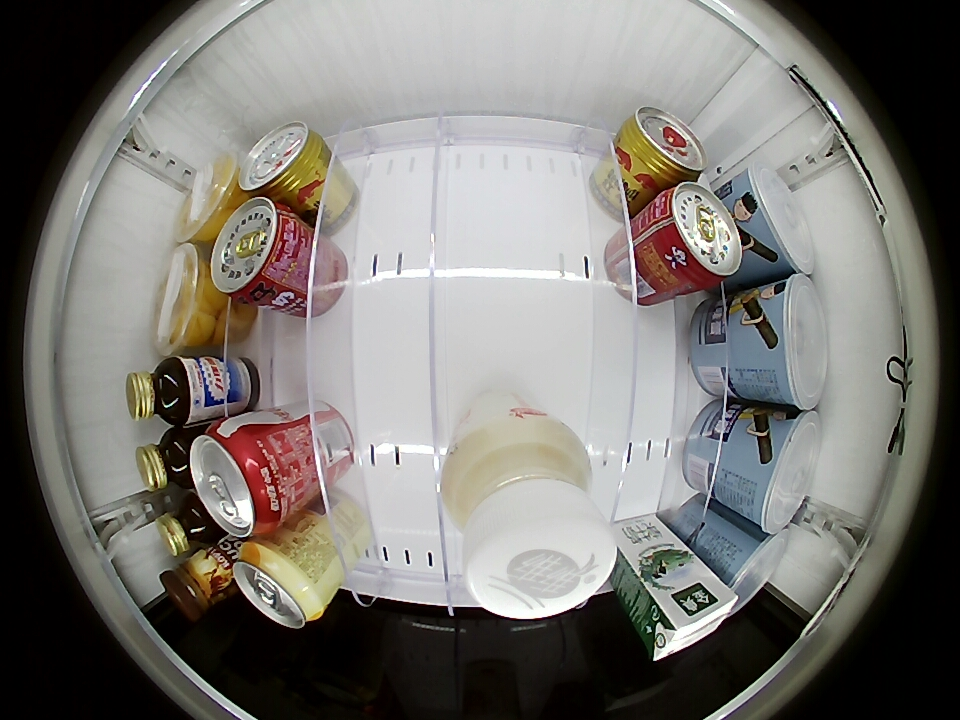haitai: (738, 407, 823, 534), (753, 274, 828, 411), (736, 161, 817, 276), (722, 526, 790, 620)
hongniu: (618, 106, 708, 185)
hongniu2: (239, 121, 329, 202)
jindian: (639, 568, 738, 662)
kele: (190, 421, 286, 539)
libaojian: (125, 357, 192, 426), (156, 494, 217, 557), (135, 428, 195, 492)
lujikafei: (159, 547, 232, 620)
mangguoxiaolao: (234, 541, 327, 629)
wangzainiunai: (640, 182, 742, 294), (211, 197, 309, 305)
weiweidounai: (441, 422, 616, 622)
xianguolao: (153, 243, 219, 354), (175, 155, 241, 245)
